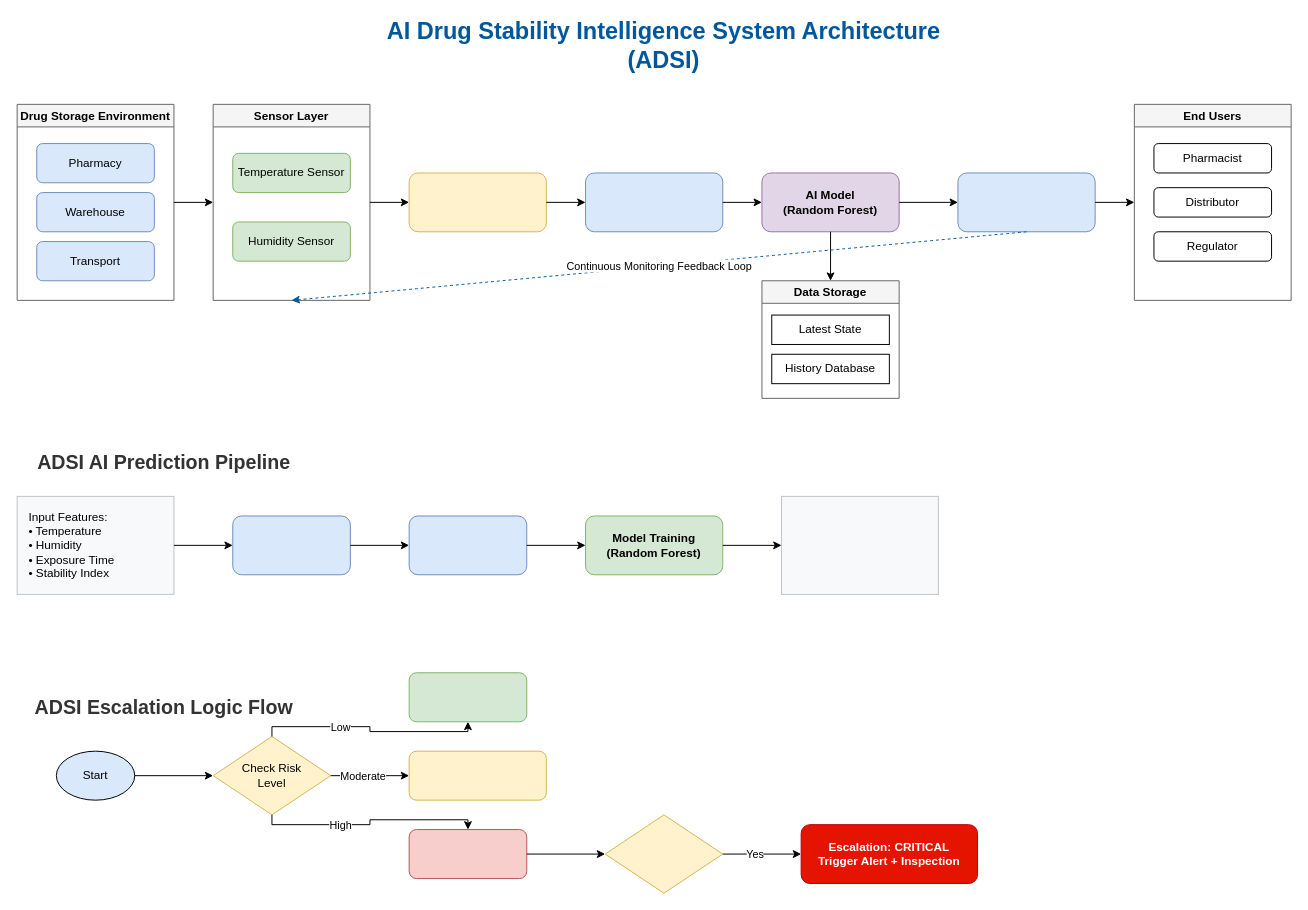
Some shapes in this 1308 by 910 pixel diagram are drawn without their labels. Here are the shapes that lost their labels. From the top down, the centre of each, then its label:
point 477,202: Data Transmission (ESP32 / Simulator)
point 654,202: Backend Server (Flask API)
point 1026,202: Dashboard Interface (React Web App)
point 291,545: Data Preprocessing
point 467,545: Feature Engineering
point 859,544: Prediction Output: • Low Risk • Moderate Risk • High Risk
point 467,697: Status: COMPLIANT
point 477,775: Status: AT RISK (Monitoring Required)
point 467,854: Status: NON-COMPLIANT
point 663,853: Repeated Violations?
